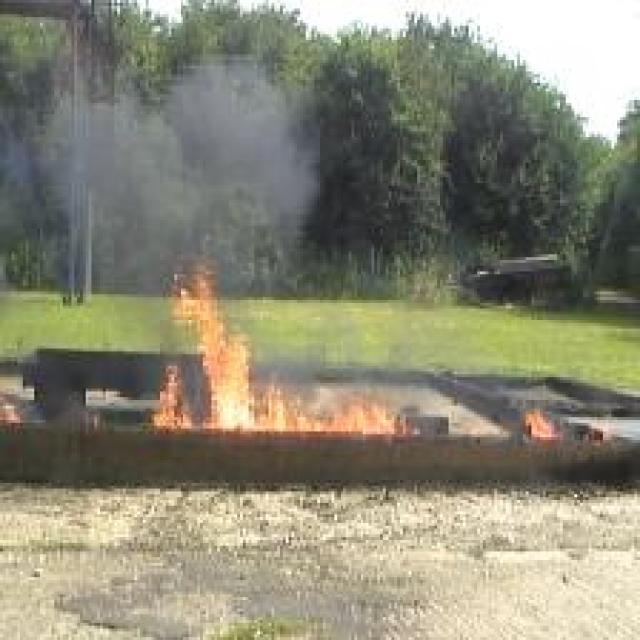Fire: (147, 261, 427, 433), (520, 402, 557, 438)
